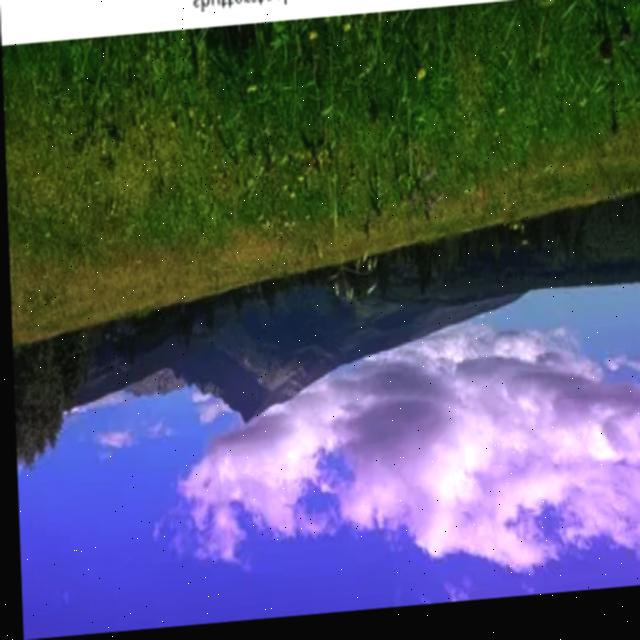Krivan: (178, 350, 314, 493)
